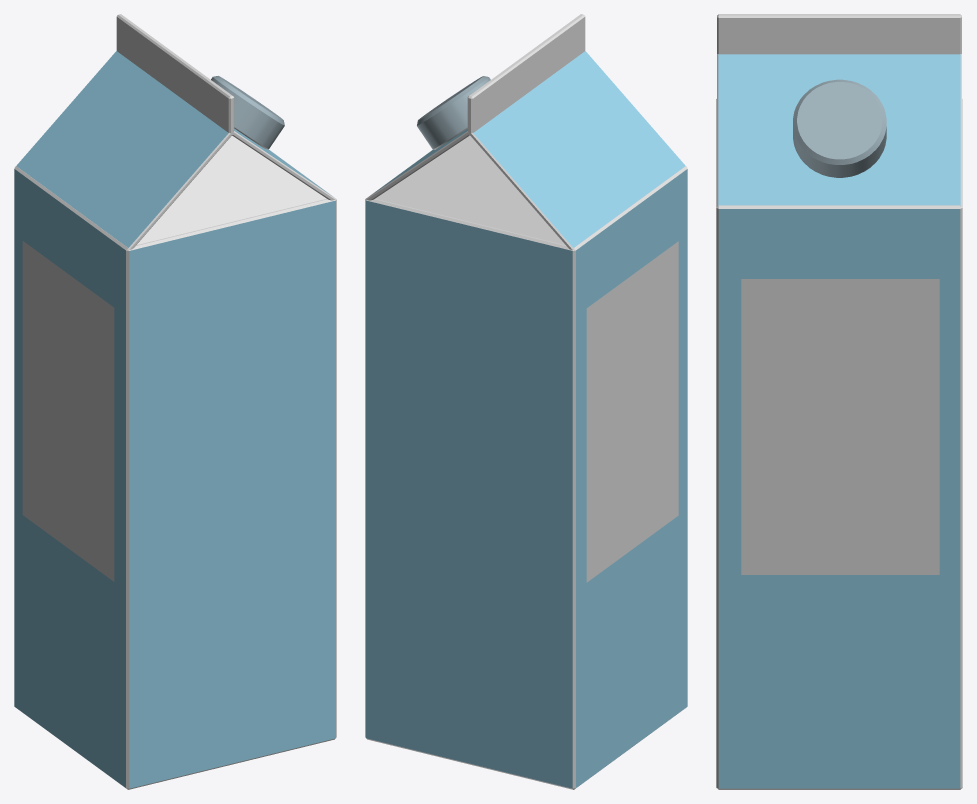
The model's file is MilkGeo.fbx.
3 views of the same model, side by side, from view 1: azimuth 30°, elevation 25°; view 2: azimuth 150°, elevation 25°; view 3: azimuth 270°, elevation 25° (orthographic). The views are drawn at different scales.
Visible parts, largest first — view 1: milkgeo; view 2: milkgeo; view 3: milkgeo.
Part boxes in pixels (x1,y1,x2,y2): milkgeo: (14, 14, 336, 789); milkgeo: (365, 14, 687, 789); milkgeo: (716, 14, 962, 789).
Bounding box in the file's own units: 37.28 × 112 × 34.65.
